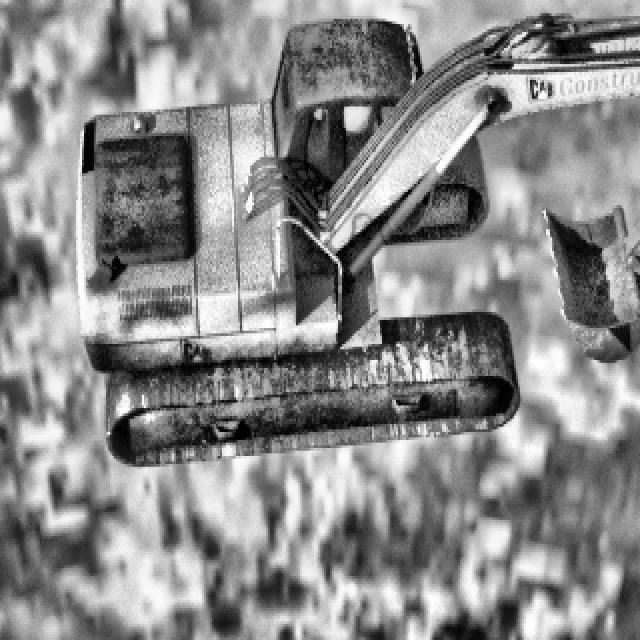excavator: (76, 0, 640, 464)
